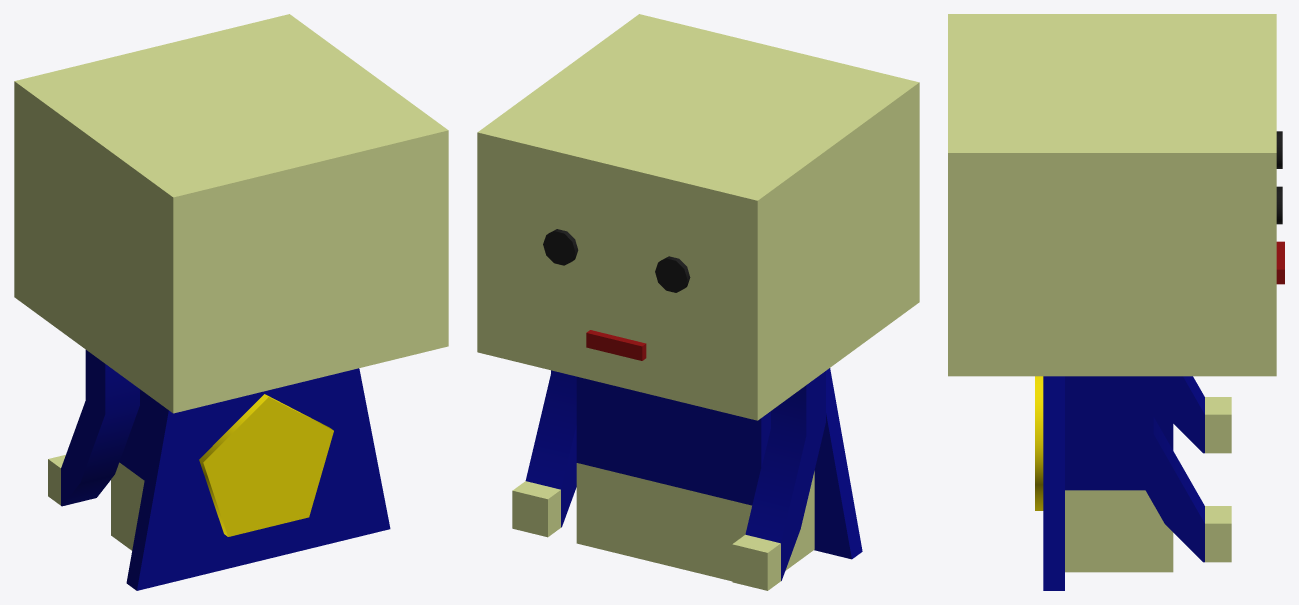
The model's file is Police.FBX.
3 renders of one model, left to right at view 1: azimuth 30°, elevation 25°; view 2: azimuth 150°, elevation 25°; view 3: azimuth 270°, elevation 25°, orthographic. The views are drawn at different scales.
Visible parts, largest first — view 1: Box007, Box011, Cylinder003, Box006, Box010; view 2: Box007, Box010, Box006, Box009, Box011, Box008, Cylinder001, Cylinder002; view 3: Box007, Box010, Box009, Box011, Box006, Cylinder003.
Boxes of the visible parts, x1,y1,x2,y2 form: Box007: [14, 14, 448, 413]; Box011: [126, 368, 390, 590]; Cylinder003: [199, 394, 333, 536]; Box006: [48, 350, 139, 506]; Box010: [111, 389, 158, 550]; Box007: [477, 14, 919, 420]; Box010: [576, 376, 814, 581]; Box006: [732, 371, 825, 590]; Box009: [512, 370, 576, 537]; Box011: [814, 368, 862, 559]; Box008: [586, 330, 646, 360]; Cylinder001: [543, 229, 578, 265]; Cylinder002: [655, 256, 690, 292]; Box007: [948, 14, 1276, 376]; Box010: [1065, 376, 1173, 572]; Box009: [1113, 376, 1231, 562]; Box011: [1043, 376, 1064, 590]; Box006: [1173, 376, 1231, 453]; Cylinder003: [1035, 376, 1043, 510].
Size of the model in its own units: 20 by 29.83 by 20.5.
